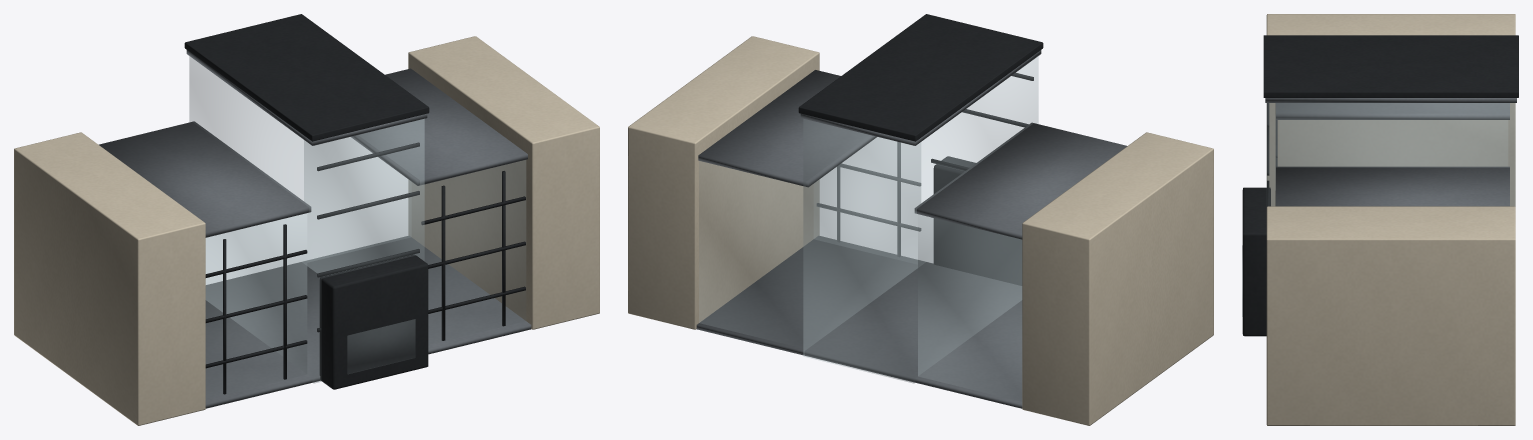
Rendered from pack.agentspace.building.echt.01.glb.
3 renders of one model, left to right at view 1: azimuth 30°, elevation 25°; view 2: azimuth 150°, elevation 25°; view 3: azimuth 270°, elevation 25°, orthographic.
Visible parts, largest first — view 1: pack.agentspace.building.echt.01.slab.left, pack.agentspace.building.echt.01.slab.right, pack.agentspace.building.echt.01.volume.center, pack.agentspace.building.echt.01.wing.right, pack.agentspace.building.echt.01.plinth, pack.agentspace.building.echt.01.parapet.center, pack.agentspace.building.echt.01.wing.left, pack.agentspace.building.echt.01.entrance, pack.agentspace.building.echt.01.roof.left, pack.agentspace.building.echt.01.roof.right, pack.agentspace.building.echt.01.entrance.glass, pack.agentspace.building.echt.01.roof.center (+4 smaller); view 2: pack.agentspace.building.echt.01.slab.left, pack.agentspace.building.echt.01.slab.right, pack.agentspace.building.echt.01.volume.center, pack.agentspace.building.echt.01.plinth, pack.agentspace.building.echt.01.wing.right, pack.agentspace.building.echt.01.wing.left, pack.agentspace.building.echt.01.parapet.center, pack.agentspace.building.echt.01.roof.left, pack.agentspace.building.echt.01.roof.right, pack.agentspace.building.echt.01.entrance, pack.agentspace.building.echt.01.roof.center; view 3: pack.agentspace.building.echt.01.slab.right, pack.agentspace.building.echt.01.slab.left, pack.agentspace.building.echt.01.volume.center, pack.agentspace.building.echt.01.parapet.center, pack.agentspace.building.echt.01.roof.right, pack.agentspace.building.echt.01.roof.left, pack.agentspace.building.echt.01.entrance, pack.agentspace.building.echt.01.roof.center.
Boxes of the visible parts, left/top/right/bottom form: pack.agentspace.building.echt.01.slab.left: left=14, top=132, right=205, bottom=425; pack.agentspace.building.echt.01.slab.right: left=408, top=36, right=599, bottom=329; pack.agentspace.building.echt.01.volume.center: left=189, top=56, right=424, bottom=383; pack.agentspace.building.echt.01.wing.right: left=304, top=137, right=525, bottom=344; pack.agentspace.building.echt.01.plinth: left=205, top=236, right=531, bottom=408; pack.agentspace.building.echt.01.parapet.center: left=184, top=14, right=429, bottom=141; pack.agentspace.building.echt.01.wing.left: left=206, top=213, right=306, bottom=398; pack.agentspace.building.echt.01.entrance: left=319, top=254, right=428, bottom=389; pack.agentspace.building.echt.01.roof.left: left=99, top=121, right=311, bottom=237; pack.agentspace.building.echt.01.roof.right: left=350, top=68, right=527, bottom=185; pack.agentspace.building.echt.01.entrance.glass: left=348, top=319, right=414, bottom=373; pack.agentspace.building.echt.01.roof.center: left=186, top=50, right=427, bottom=145; pack.agentspace.building.echt.01.slab.left: left=1022, top=132, right=1213, bottom=425; pack.agentspace.building.echt.01.slab.right: left=628, top=36, right=819, bottom=329; pack.agentspace.building.echt.01.volume.center: left=803, top=56, right=1038, bottom=383; pack.agentspace.building.echt.01.plinth: left=696, top=236, right=1022, bottom=408; pack.agentspace.building.echt.01.wing.right: left=699, top=137, right=920, bottom=347; pack.agentspace.building.echt.01.wing.left: left=918, top=214, right=1021, bottom=401; pack.agentspace.building.echt.01.parapet.center: left=798, top=14, right=1043, bottom=141; pack.agentspace.building.echt.01.roof.left: left=914, top=122, right=1127, bottom=239; pack.agentspace.building.echt.01.roof.right: left=698, top=70, right=877, bottom=187; pack.agentspace.building.echt.01.entrance: left=933, top=156, right=1022, bottom=285; pack.agentspace.building.echt.01.roof.center: left=800, top=50, right=1041, bottom=145; pack.agentspace.building.echt.01.slab.right: left=1266, top=206, right=1515, bottom=425; pack.agentspace.building.echt.01.slab.left: left=1266, top=14, right=1515, bottom=206; pack.agentspace.building.echt.01.volume.center: left=1267, top=103, right=1515, bottom=206; pack.agentspace.building.echt.01.parapet.center: left=1263, top=35, right=1518, bottom=97; pack.agentspace.building.echt.01.roof.right: left=1276, top=166, right=1509, bottom=206; pack.agentspace.building.echt.01.roof.left: left=1276, top=103, right=1509, bottom=119; pack.agentspace.building.echt.01.entrance: left=1242, top=187, right=1270, bottom=336; pack.agentspace.building.echt.01.roof.center: left=1265, top=98, right=1516, bottom=102.
Bounding box in the file's own units: 30 × 15.5 × 15.55.
Materials: 4 (3 with a texture image).
